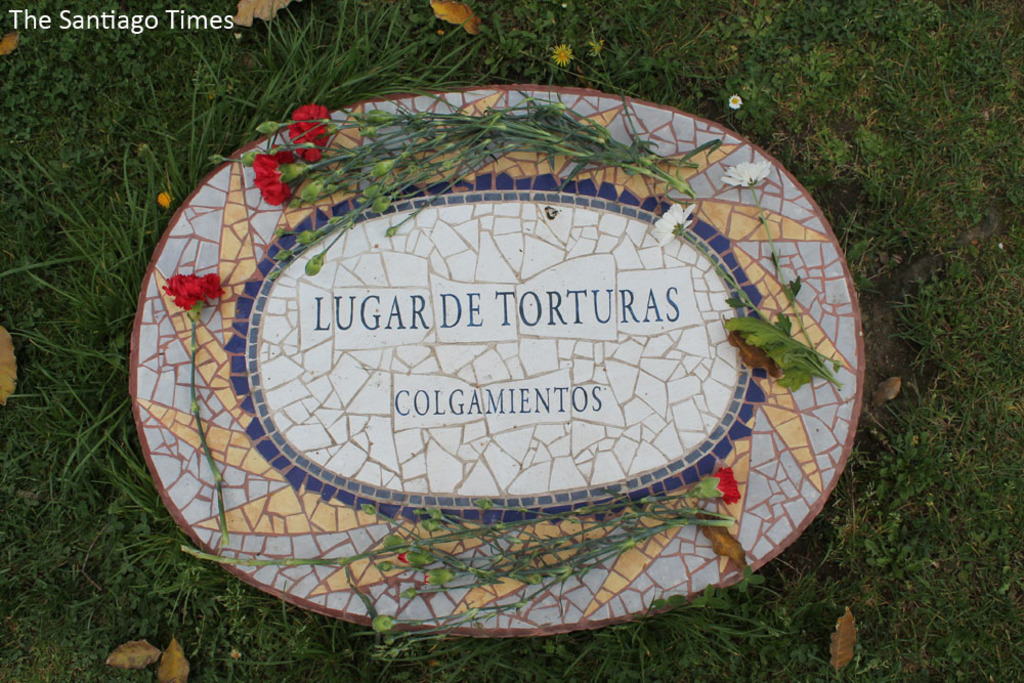plate: (132, 87, 863, 642)
